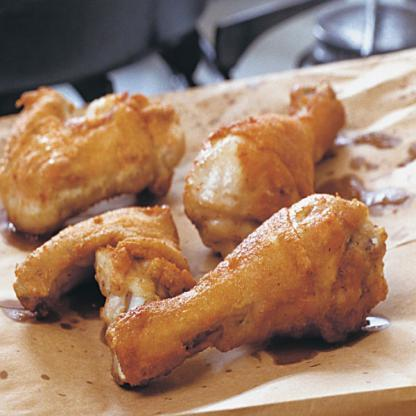ayam_goreng: (110, 197, 386, 380), (185, 83, 347, 255), (5, 87, 182, 234), (18, 201, 187, 323)
